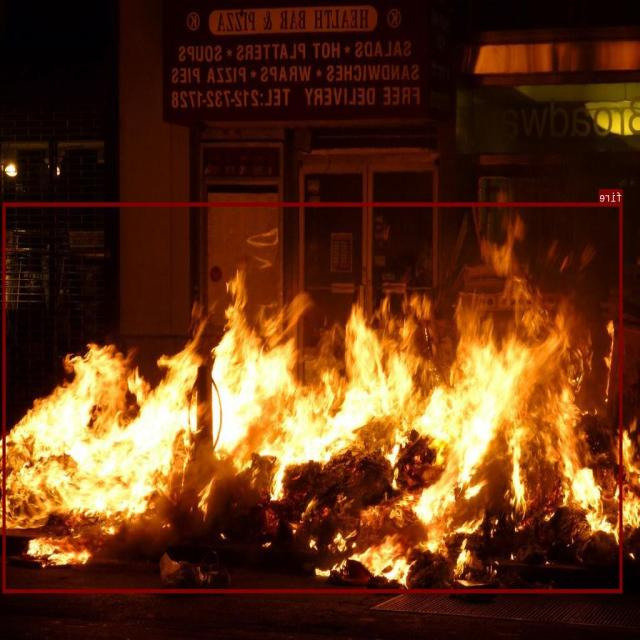fire: (4, 202, 622, 592)
